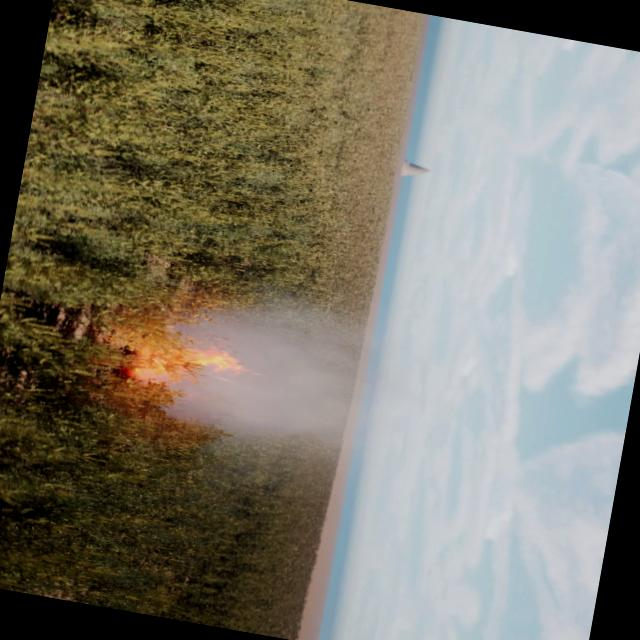fire: (114, 321, 260, 408)
smoke: (133, 270, 430, 478)
